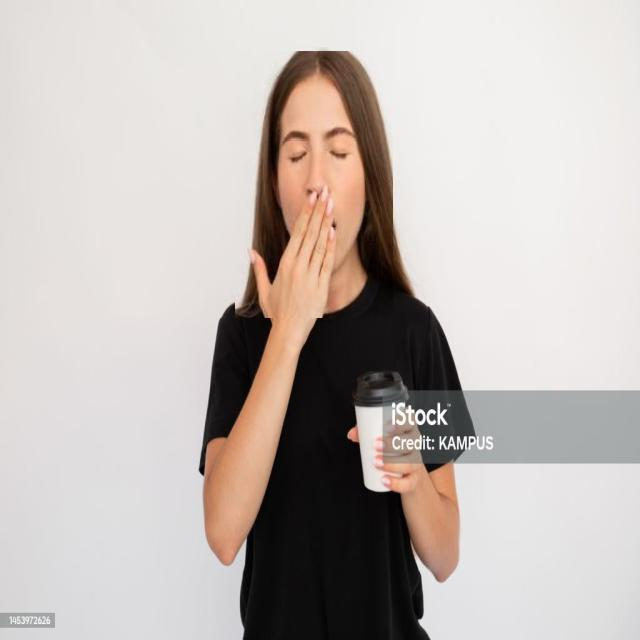Yawn: (235, 51, 393, 318)
